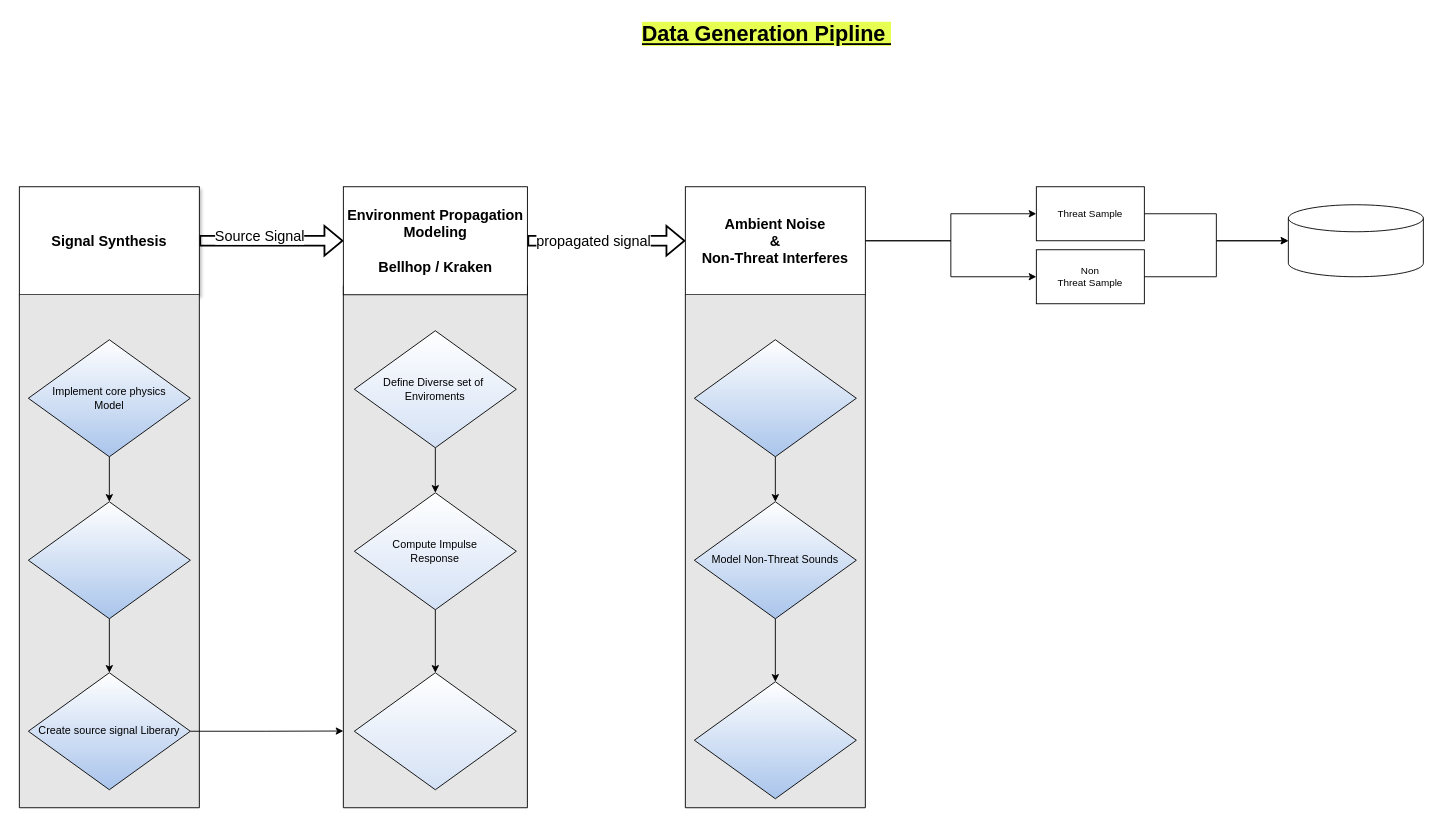
This 1439x824 diagram has some shape labels left out. Here are the shapes that lost their labels. From the top down, the centre of each, then its label:
the point at 1355,240: Synthesized Dataset
the point at 774,398: Model Ambient Noise
the point at 108,560: Add Machinery Signatures
the point at 434,731: Apply channel: Signal Convolution
the point at 774,740: Mix Data
